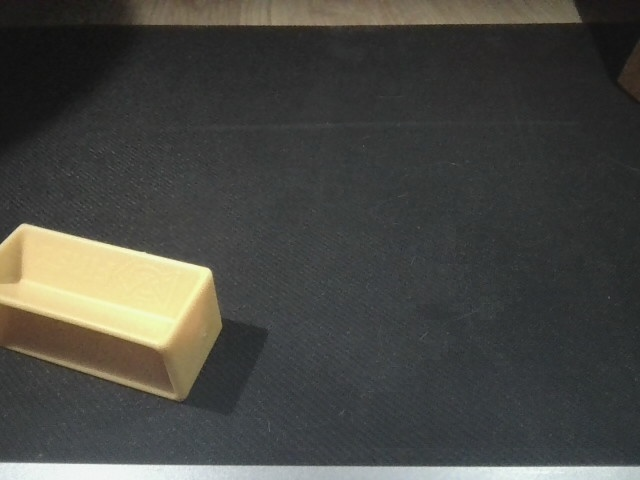YellowSample: (1, 222, 241, 403)
